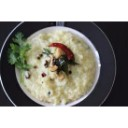venpongal: (23, 36, 90, 100)
